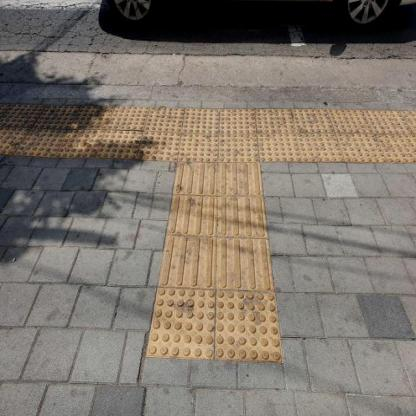podotacti: (144, 163, 282, 354), (2, 107, 414, 154)
